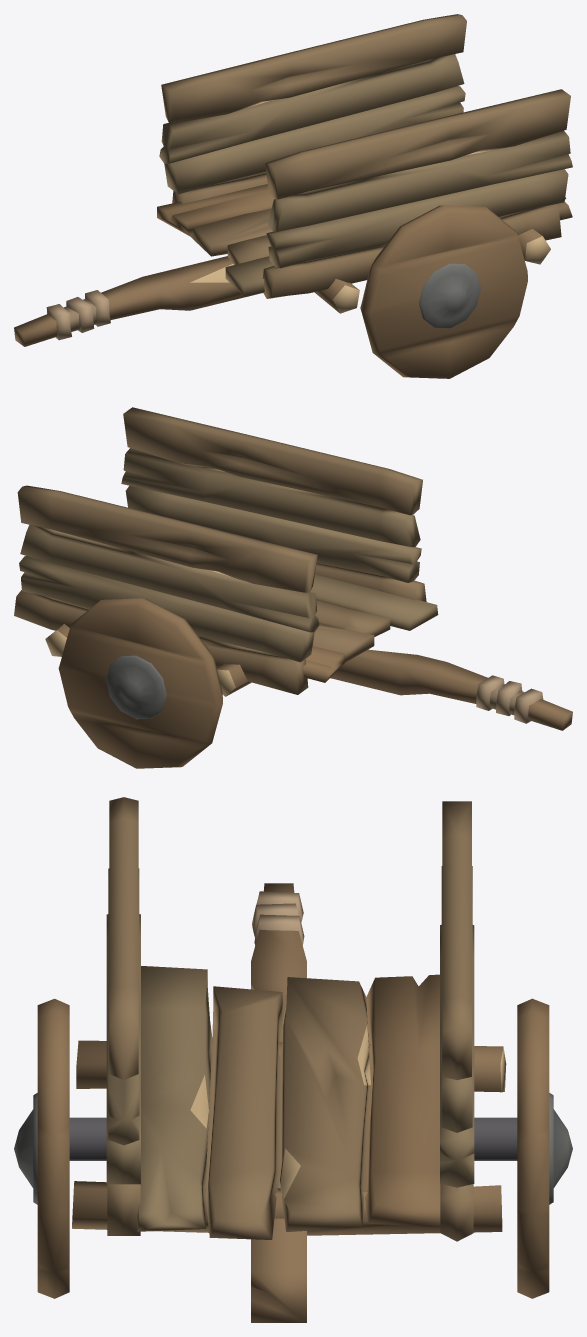
Rendered from rpgpp_ag_wagon_02.fbx.
3 views of the same model, one above another, from view 1: azimuth 30°, elevation 25°; view 2: azimuth 150°, elevation 25°; view 3: azimuth 270°, elevation 25° (orthographic). The views are drawn at different scales.
Visible parts, largest first — view 1: rpgpp_ag_wagon_02; view 2: rpgpp_ag_wagon_02; view 3: rpgpp_ag_wagon_02.
Part boxes in pixels (box(x1,y1,x2,y2)): rpgpp_ag_wagon_02: box(14, 14, 572, 378); rpgpp_ag_wagon_02: box(14, 407, 572, 768); rpgpp_ag_wagon_02: box(14, 797, 572, 1322).
Size of the model in its own units: 3.66 by 1.53 by 2.06.
